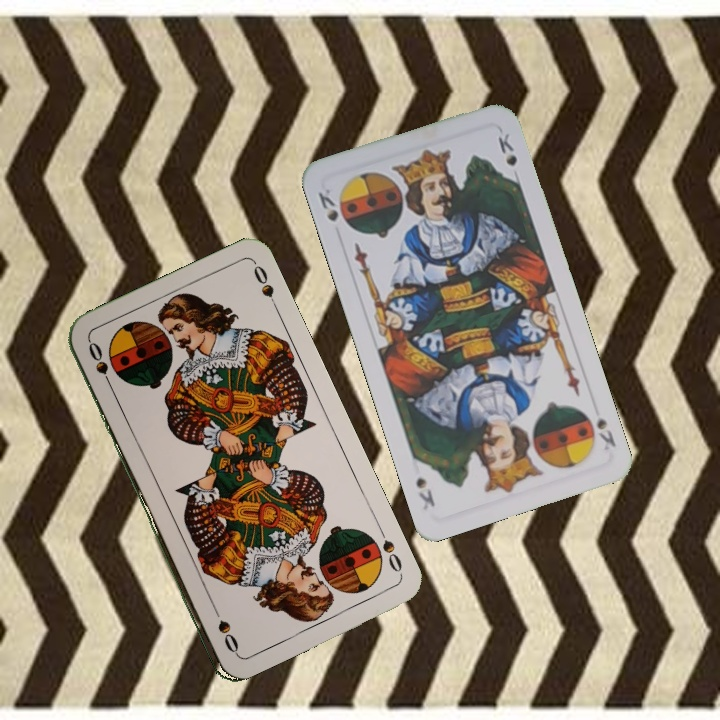SK: (314, 184, 352, 232), (592, 411, 619, 453)
SO: (84, 337, 116, 393), (374, 522, 405, 578)
